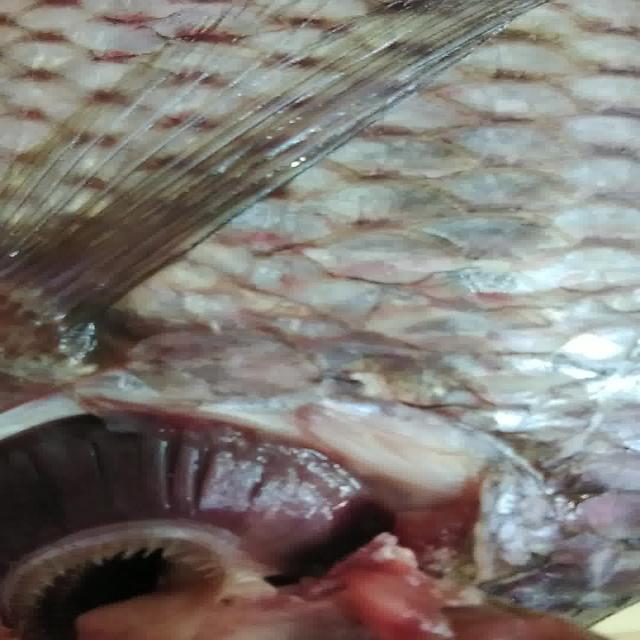Non-Fresh: (39, 391, 356, 629)
